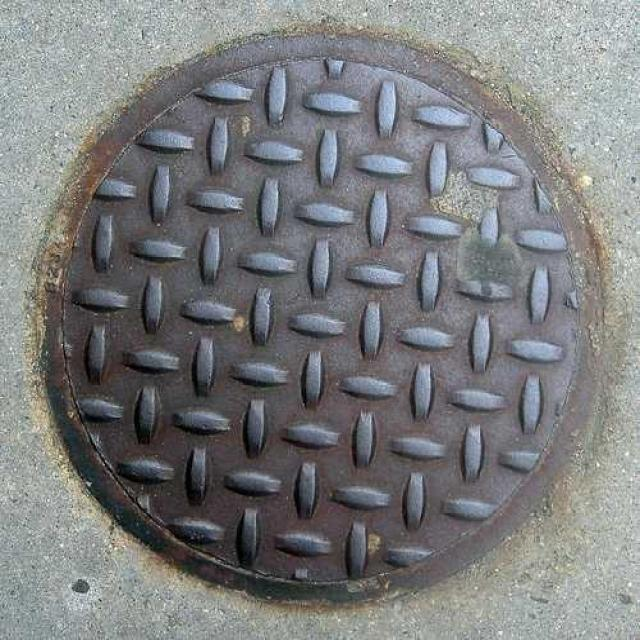manhole: (41, 35, 596, 600)
